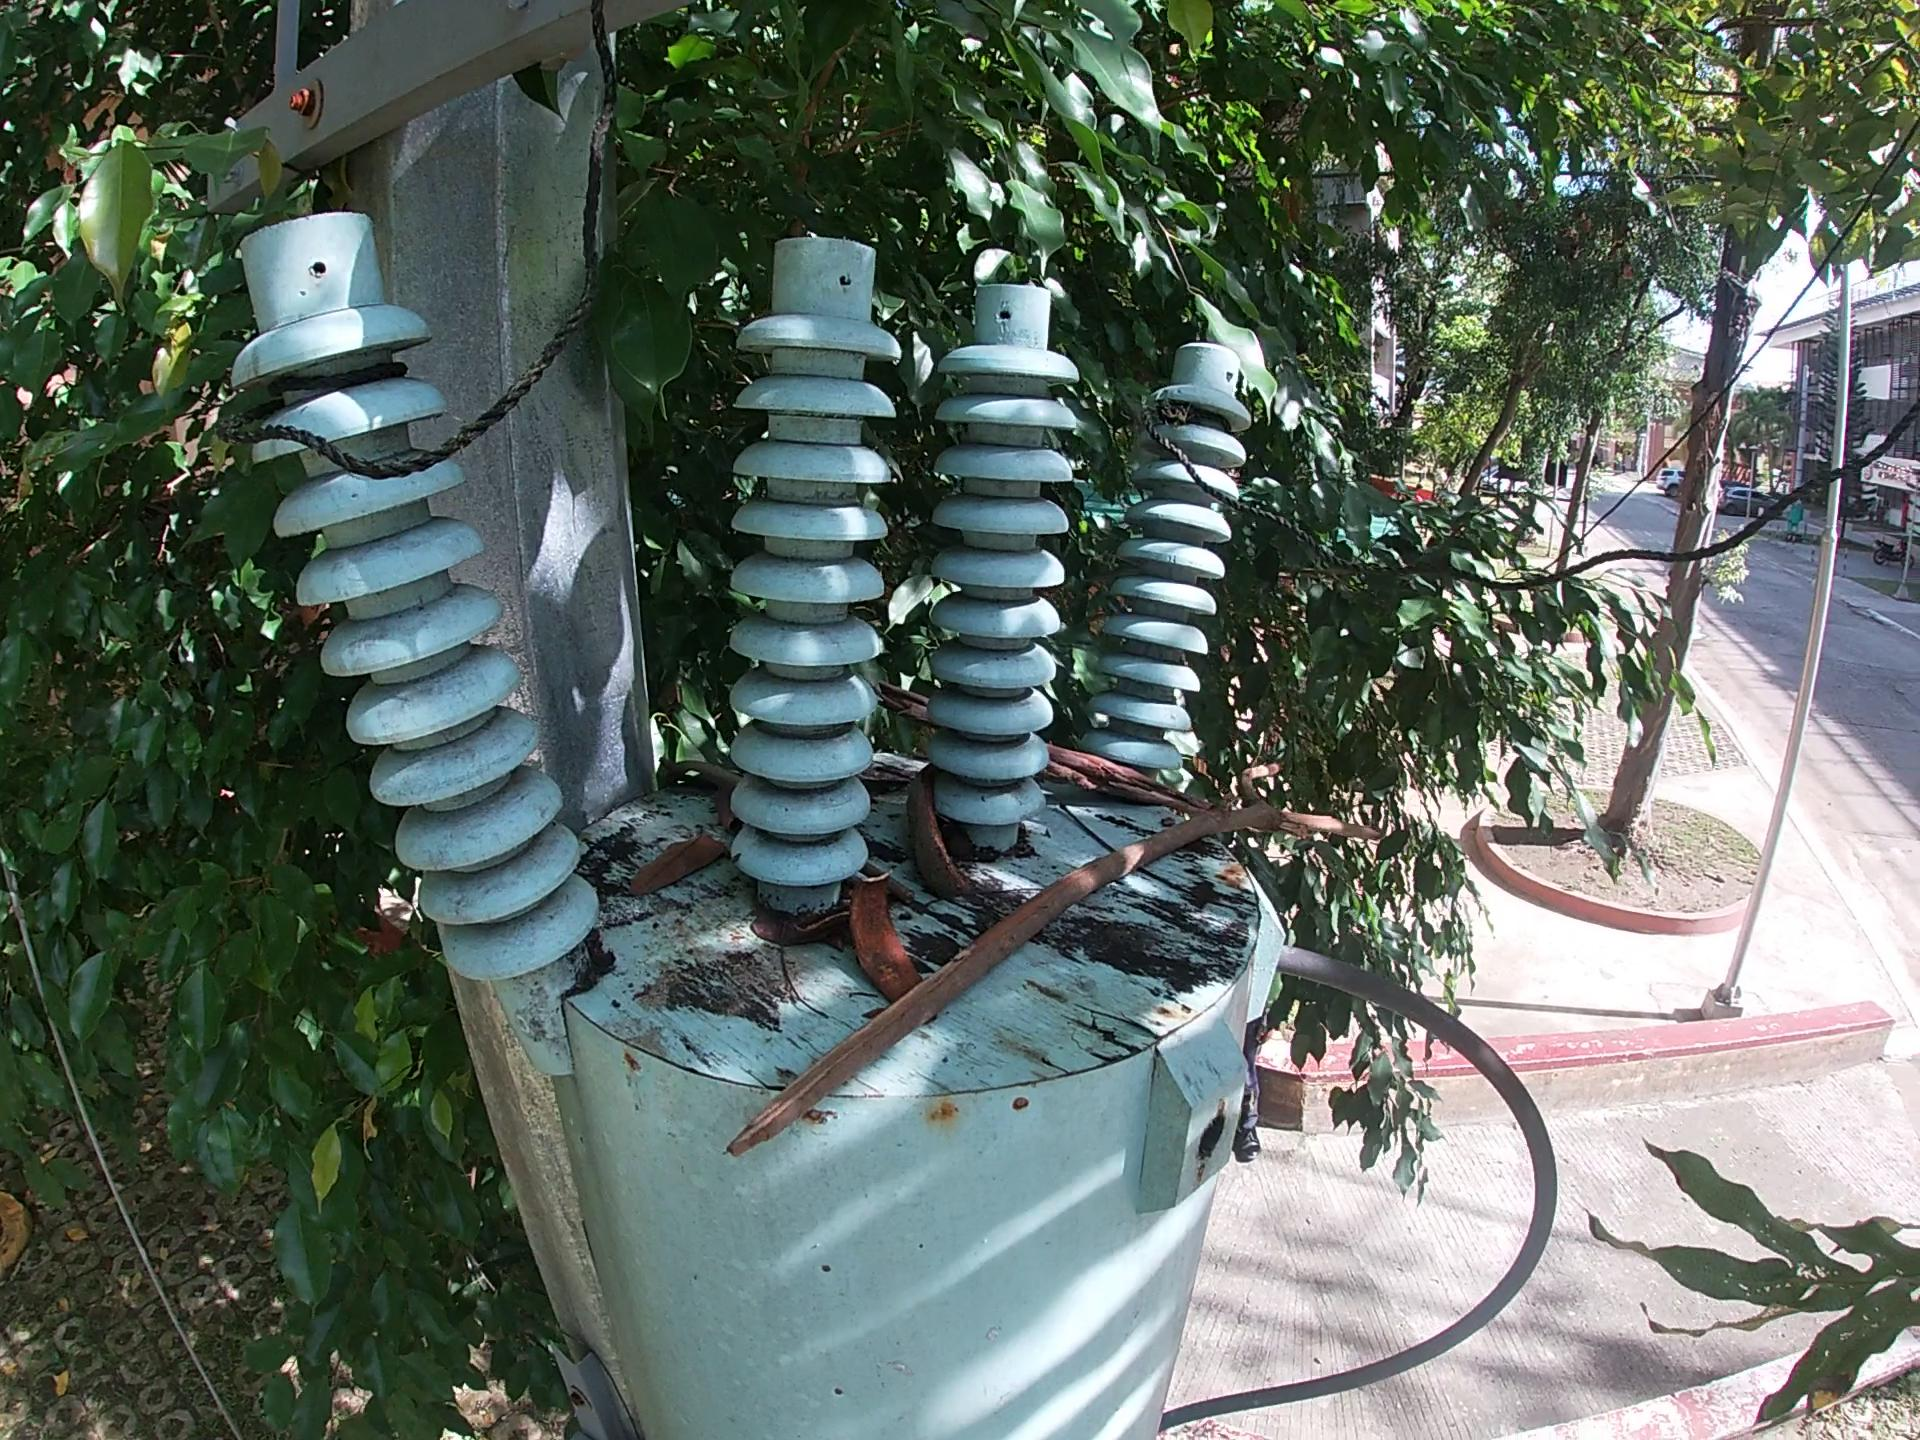leaf: (627, 824, 732, 903), (751, 902, 825, 947), (711, 784, 747, 833)
mahogany fruit: (848, 864, 927, 1009), (904, 764, 978, 905)
tree branch: (717, 755, 1386, 1165), (869, 672, 1222, 818), (647, 753, 742, 787), (865, 864, 918, 905)
